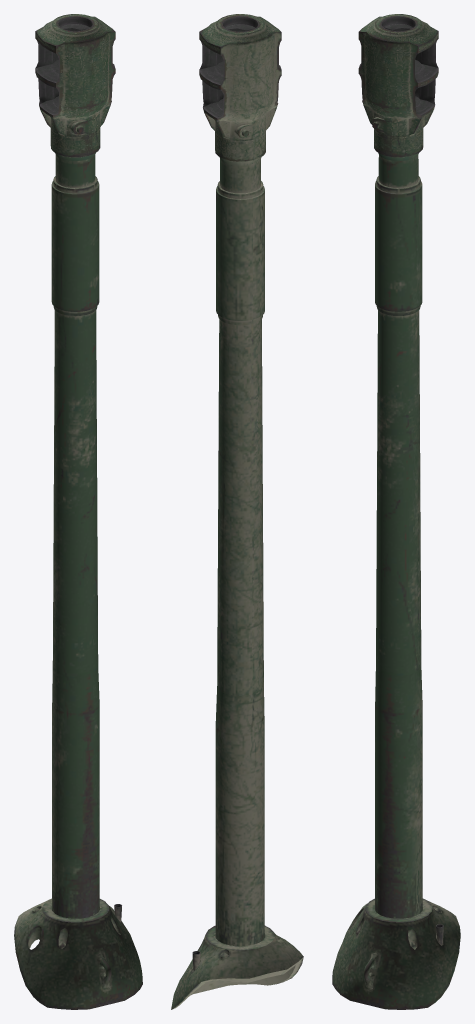
Rendered from Gun_01.glb.
3 views of the same model, side by side, from view 1: azimuth 30°, elevation 25°; view 2: azimuth 210°, elevation 25°; view 3: azimuth 330°, elevation 25° (orthographic). The views are drawn at different scales.
Parts seen in each view (by area): view 1: set_0_group_0; view 2: set_0_group_0; view 3: set_0_group_0.
Part boxes in pixels (<box>): set_0_group_0: <box>14,14,142,1009</box>; set_0_group_0: <box>171,14,303,1009</box>; set_0_group_0: <box>332,14,460,1009</box>.
Bounding box in the file's own units: 0.6411 × 5.23 × 0.6112.
Materials: 1 (1 with a texture image).
